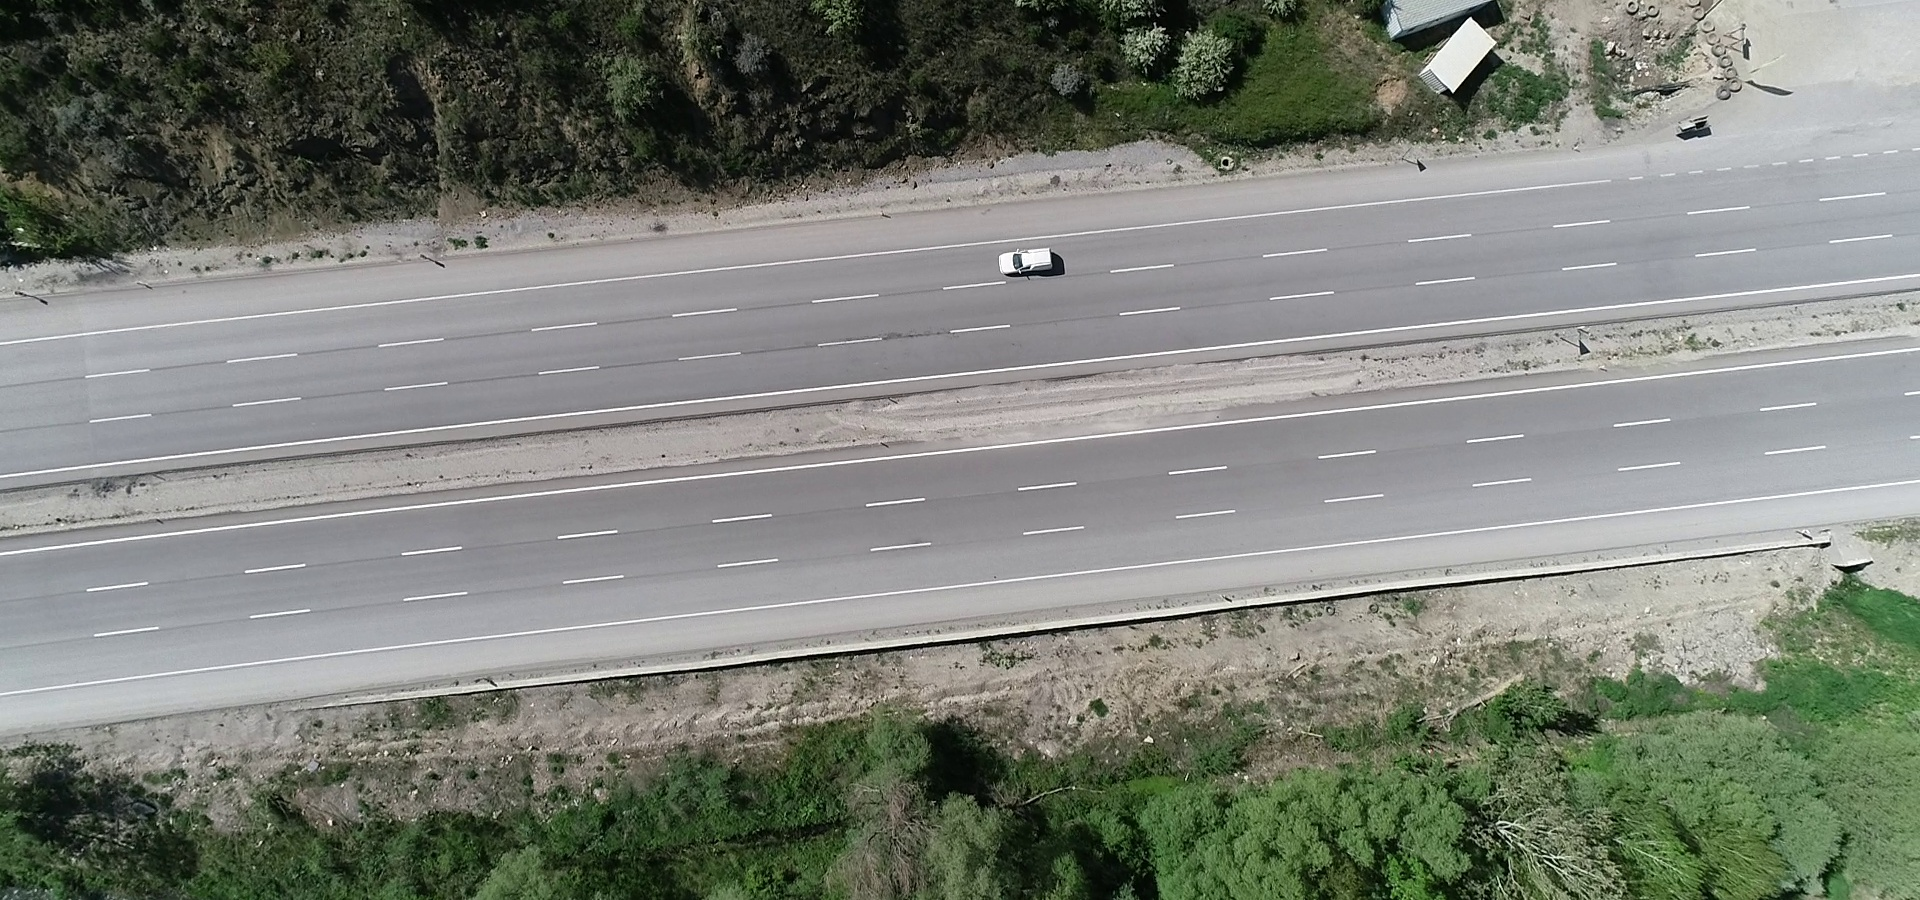arac: (994, 242, 1062, 283)
